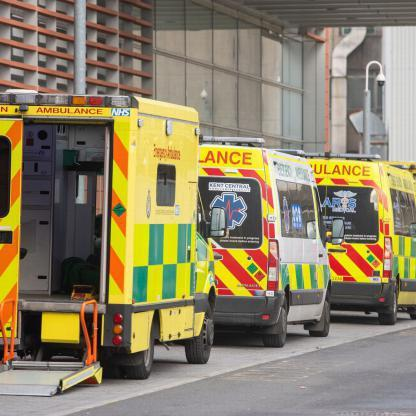Ambulance - v1 Ambulance last generate: (0, 87, 221, 377), (195, 139, 337, 332), (302, 156, 415, 317)
